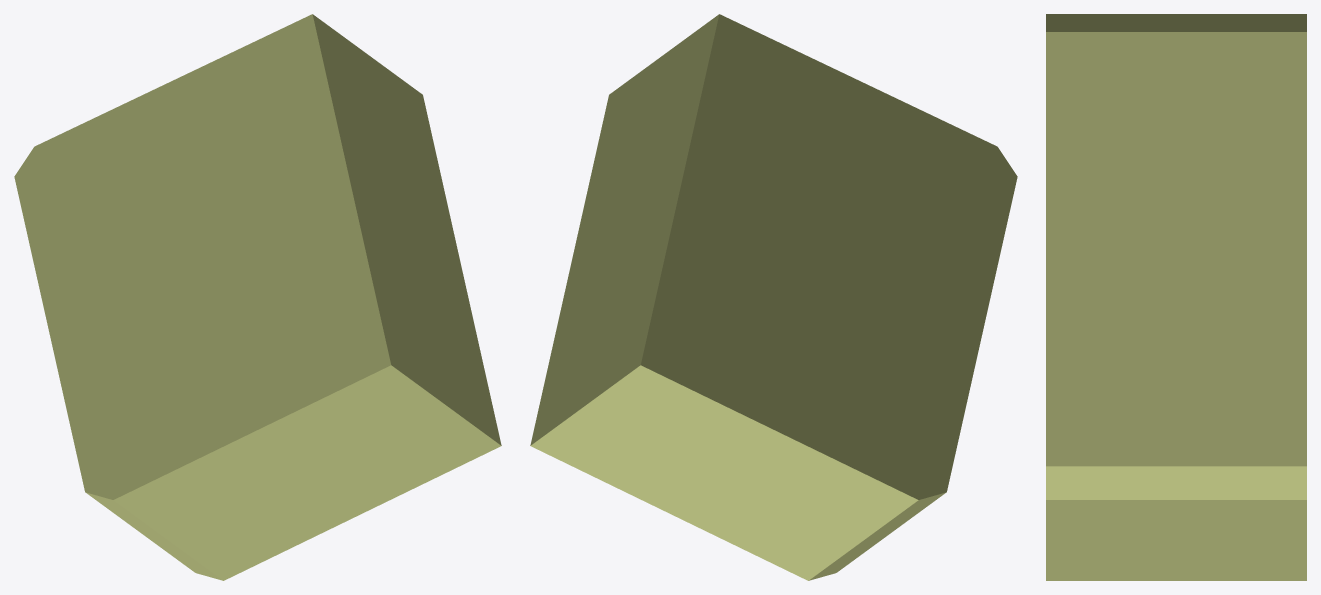
3 views of the same model, side by side, from view 1: azimuth 30°, elevation 25°; view 2: azimuth 150°, elevation 25°; view 3: azimuth 270°, elevation 25° (orthographic). The views are drawn at different scales.
Visible parts, largest first — view 1: 0_0_3_1_2_3_3_2_1; view 2: 0_0_3_1_2_3_3_2_1; view 3: 0_0_3_1_2_3_3_2_1.
Part boxes in pixels (x1,y1,x2,y2): 0_0_3_1_2_3_3_2_1: (14,14,501,580); 0_0_3_1_2_3_3_2_1: (530,14,1017,580); 0_0_3_1_2_3_3_2_1: (1046,14,1306,580).
Bounding box in the file's own units: 11.83 × 13.12 × 6.
